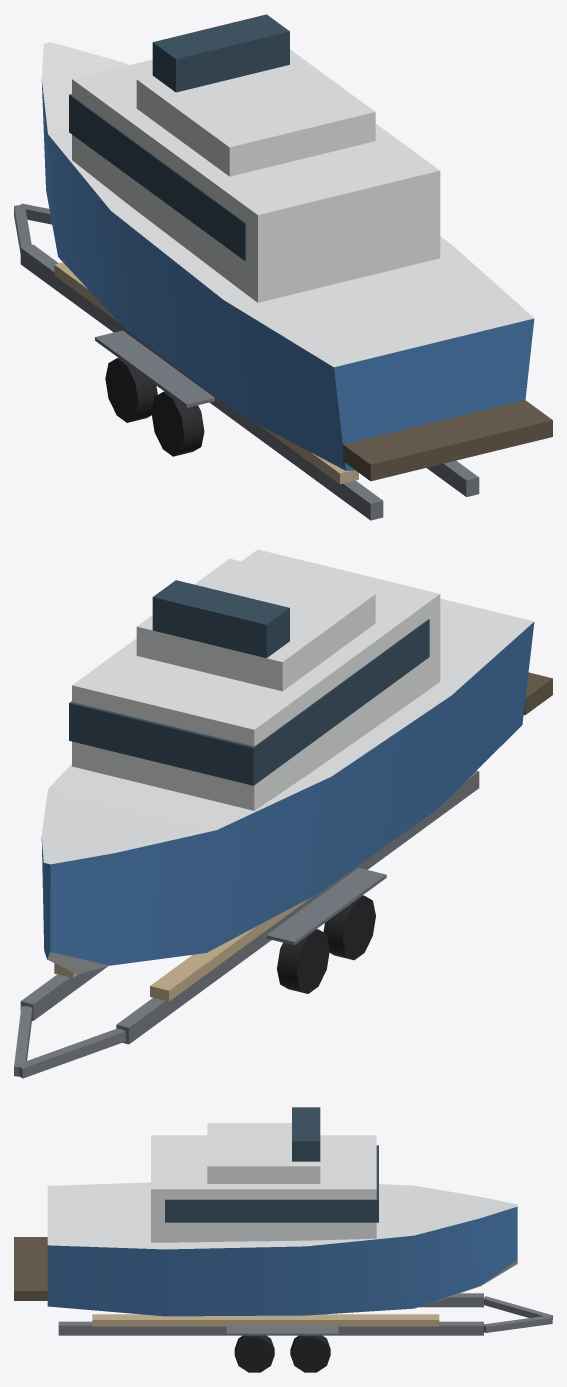
The model's file is port_cargo2.fbx.
3 renders of one model, top to bottom at view 1: azimuth 30°, elevation 25°; view 2: azimuth 150°, elevation 25°; view 3: azimuth 270°, elevation 25°, orthographic. The views are drawn at different scales.
Parts seen in each view (by area): view 1: a1095_0_port_cargo2; view 2: a1095_0_port_cargo2; view 3: a1095_0_port_cargo2.
Part boxes in pixels (x1,y1,x2,y2): a1095_0_port_cargo2: [14, 14, 552, 520]; a1095_0_port_cargo2: [14, 549, 552, 1078]; a1095_0_port_cargo2: [14, 1107, 552, 1372].
Size of the model in its own units: 2.86 by 4.33 by 9.63.
